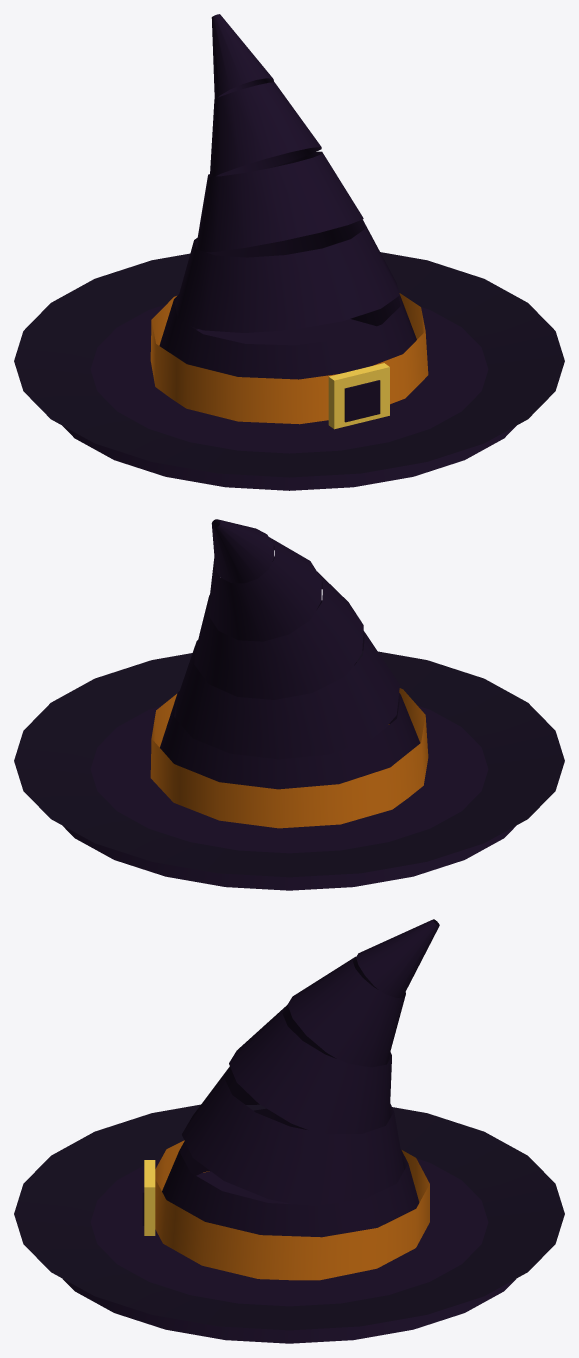
File: ville_cos_chapeau_sorciere.glb
3 renders of one model, top to bottom at view 1: azimuth 30°, elevation 25°; view 2: azimuth 150°, elevation 25°; view 3: azimuth 270°, elevation 25°, orthographic.
Visible parts, largest first — view 1: cos_chapeau_sorciere; view 2: cos_chapeau_sorciere; view 3: cos_chapeau_sorciere.
Part boxes in pixels (x1,y1,x2,y2): cos_chapeau_sorciere: (14, 14, 564, 490); cos_chapeau_sorciere: (14, 519, 564, 890); cos_chapeau_sorciere: (14, 919, 564, 1343).
Size of the model in its own units: 0.6 by 0.3834 by 0.6.
